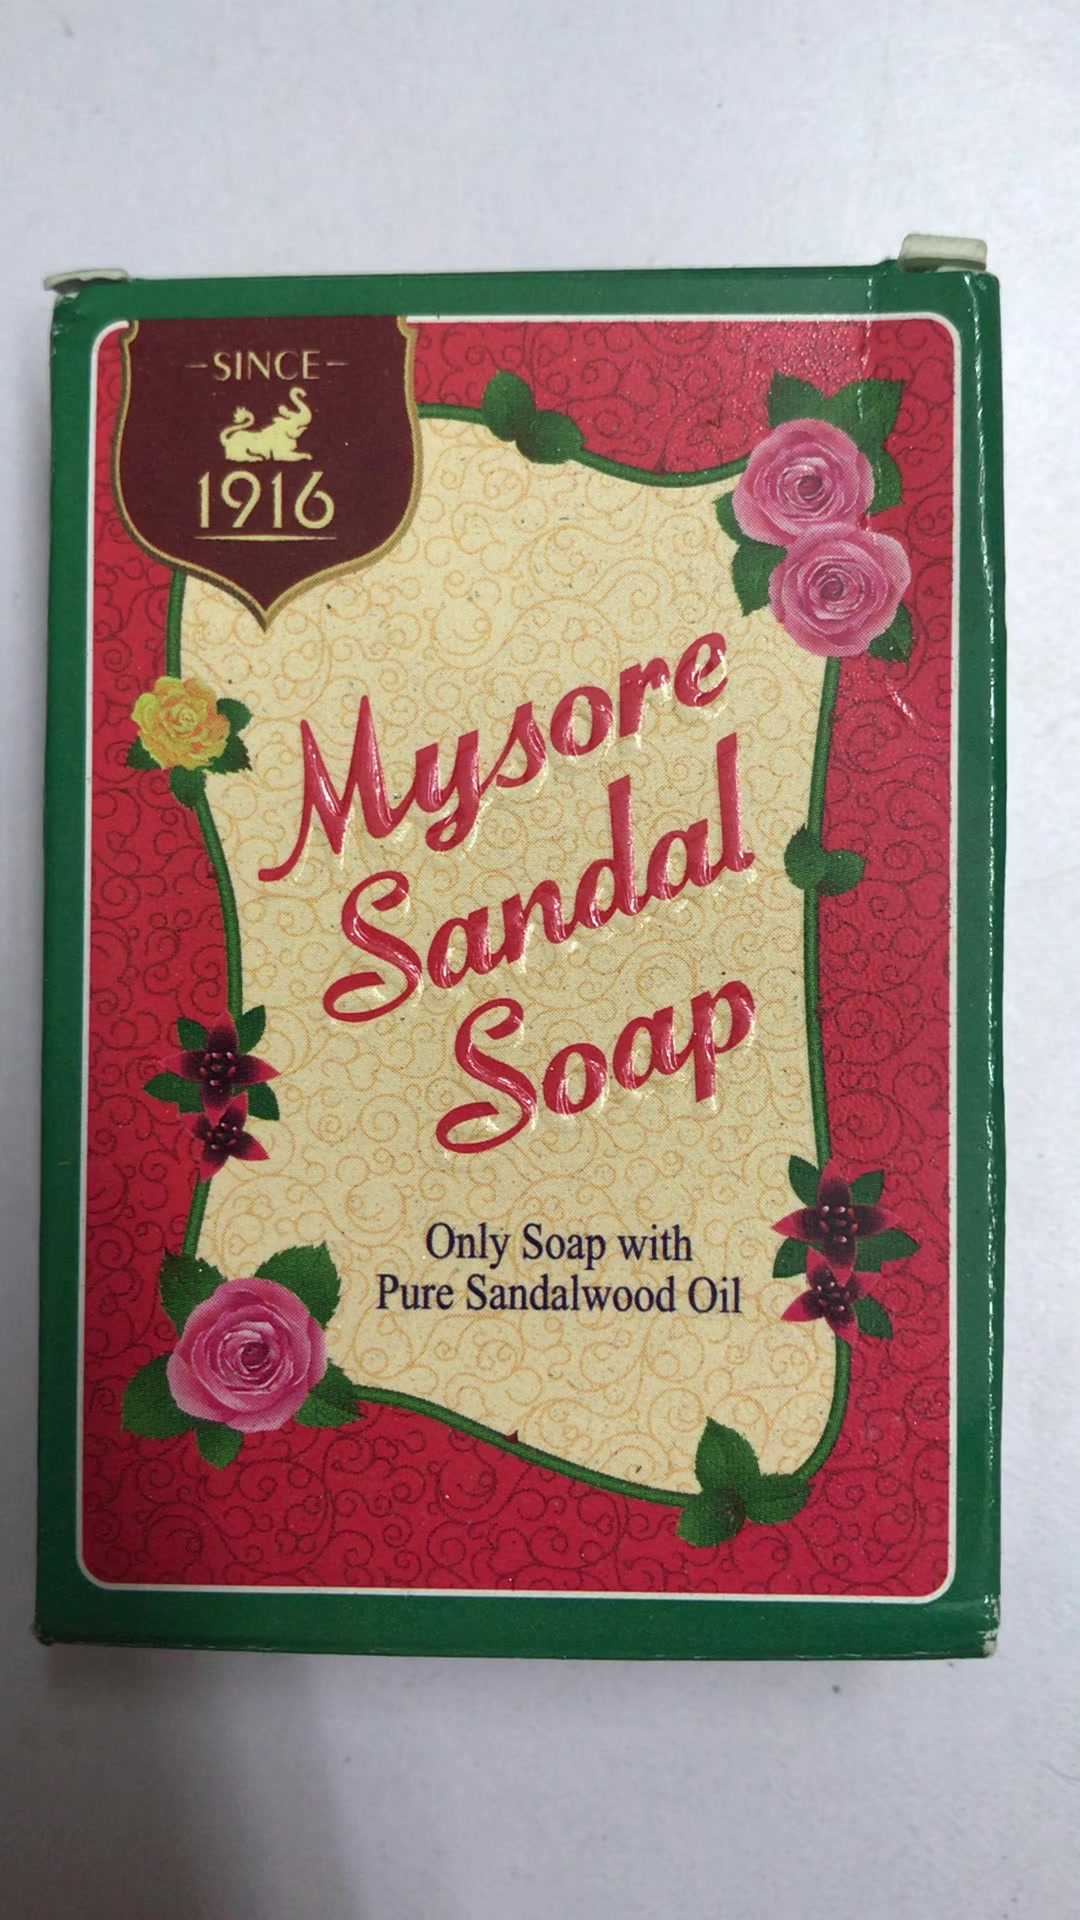mysore sandal soap: (57, 266, 997, 1658)
